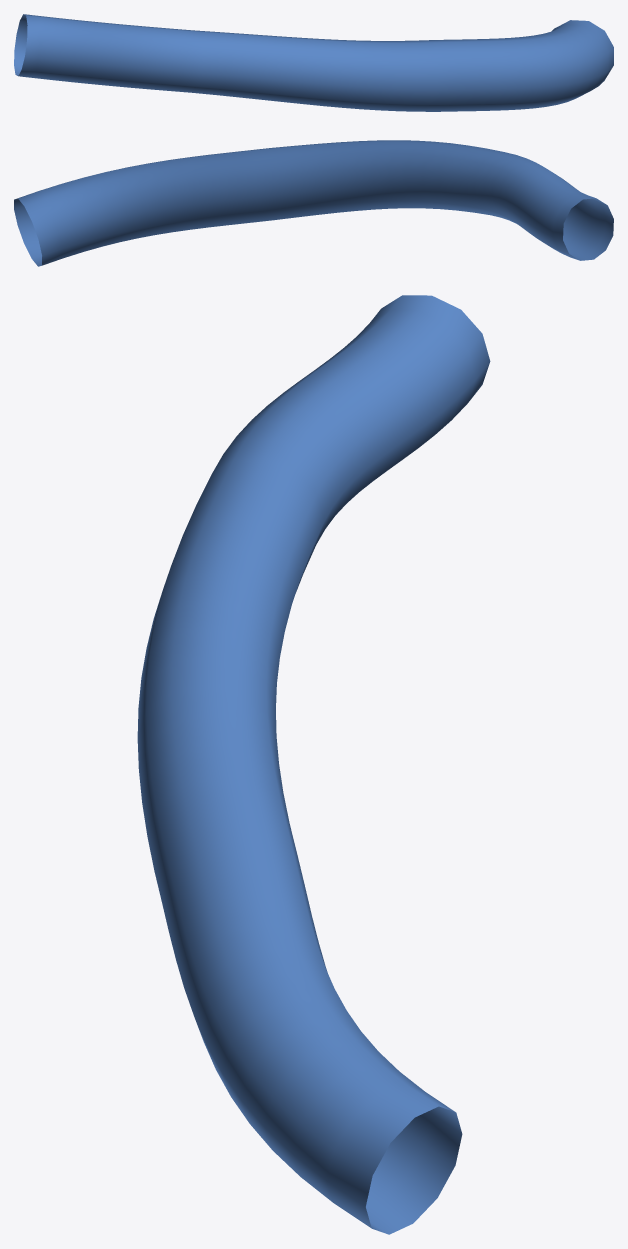
The picture shows the model from 3 angles, top to bottom: view 1: azimuth 30°, elevation 25°; view 2: azimuth 150°, elevation 25°; view 3: azimuth 270°, elevation 25°; orthographic projection. The views are drawn at different scales.
Visible parts, largest first — view 1: 右锁骨下静脉; view 2: 右锁骨下静脉; view 3: 右锁骨下静脉.
Boxes of the visible parts, x1,y1,x2,y2 form: 右锁骨下静脉: [14, 14, 613, 111]; 右锁骨下静脉: [14, 140, 613, 266]; 右锁骨下静脉: [137, 295, 490, 1234].
Size of the model in its own units: 0.1108 by 0.036 by 0.0287.
